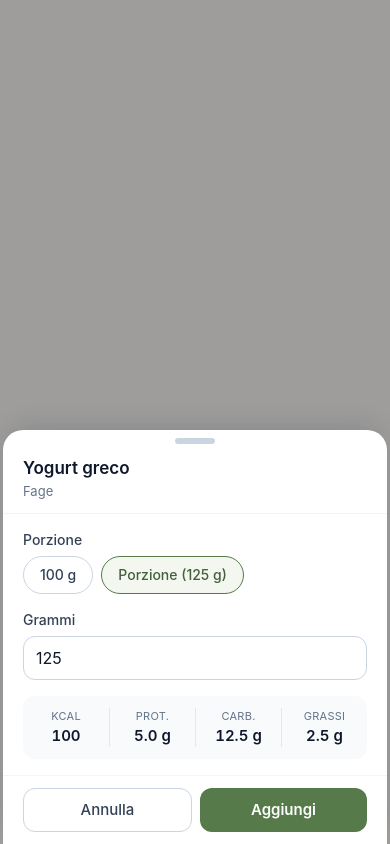
Test: QuantityPicker › sets grams to 100 when the 100g preset is clicked
The image size is (390, 844).
Click the button "100 g": [58, 575] box [23,556,93,594]
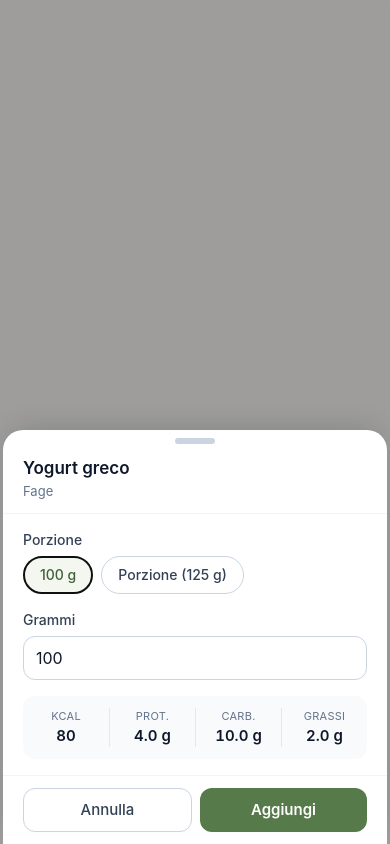
Check: the number field labelled "Grammi" holds "100", box [23,636,367,680]
Check: the text "80" is shown, box [56,726,76,744]
